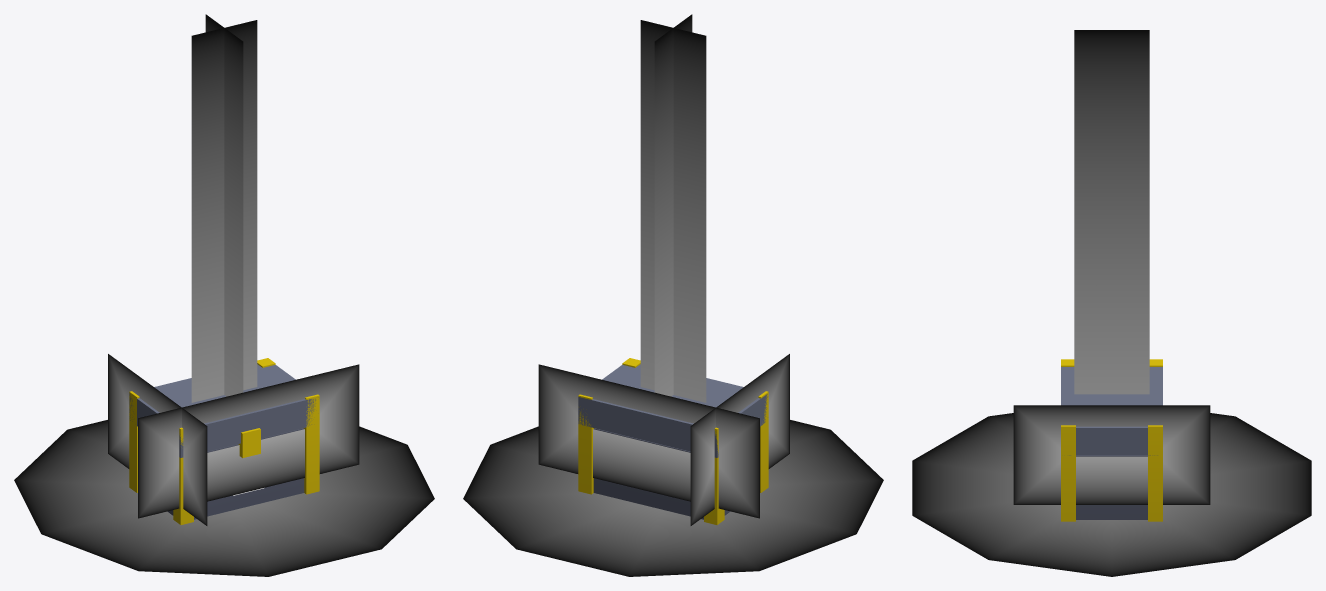
Rendered from loot_chest.glb.
3 renders of one model, left to right at view 1: azimuth 30°, elevation 25°; view 2: azimuth 150°, elevation 25°; view 3: azimuth 270°, elevation 25°, orthographic.
Parts seen in each view (by area): view 1: MC_Glow_whole_all, MC_Color_whole_all; view 2: MC_Glow_whole_all, MC_Color_whole_all; view 3: MC_Glow_whole_all, MC_Color_whole_all.
Boxes of the visible parts, <box> form: MC_Glow_whole_all: <box>14,14,434,576</box>; MC_Color_whole_all: <box>129,358,319,524</box>; MC_Glow_whole_all: <box>463,14,883,576</box>; MC_Color_whole_all: <box>578,358,768,524</box>; MC_Glow_whole_all: <box>912,30,1311,576</box>; MC_Color_whole_all: <box>1061,359,1162,521</box>.
Bounding box in the file's own units: 2.8 × 3.4 × 2.66.
